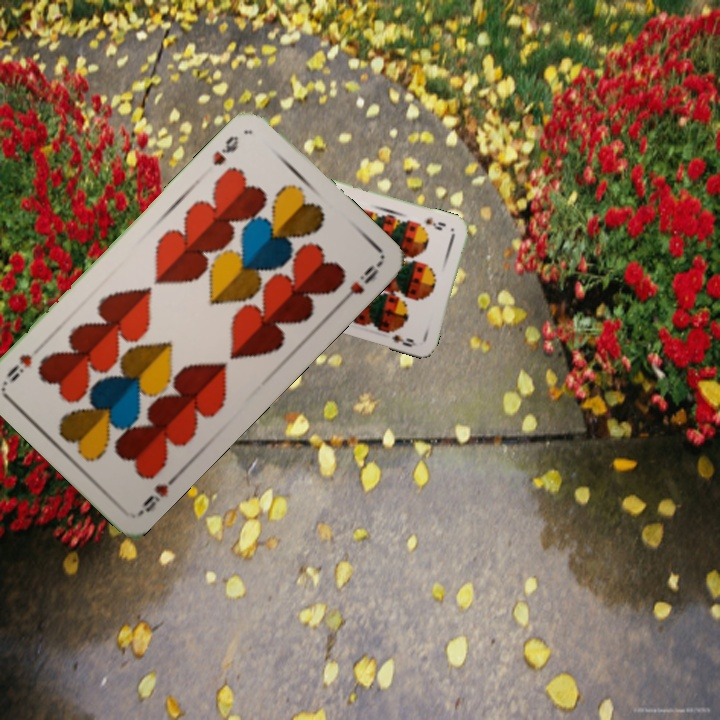H9: (135, 469, 182, 517), (209, 131, 241, 168)
S9: (421, 213, 448, 233)
